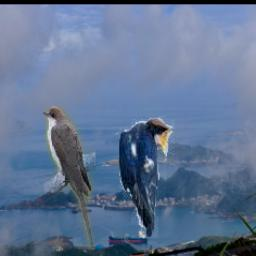Cuckoo: (43, 106, 95, 250)
Swallow: (118, 116, 174, 238)
